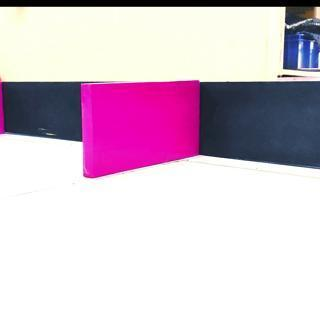xparking: (81, 82, 199, 168)
